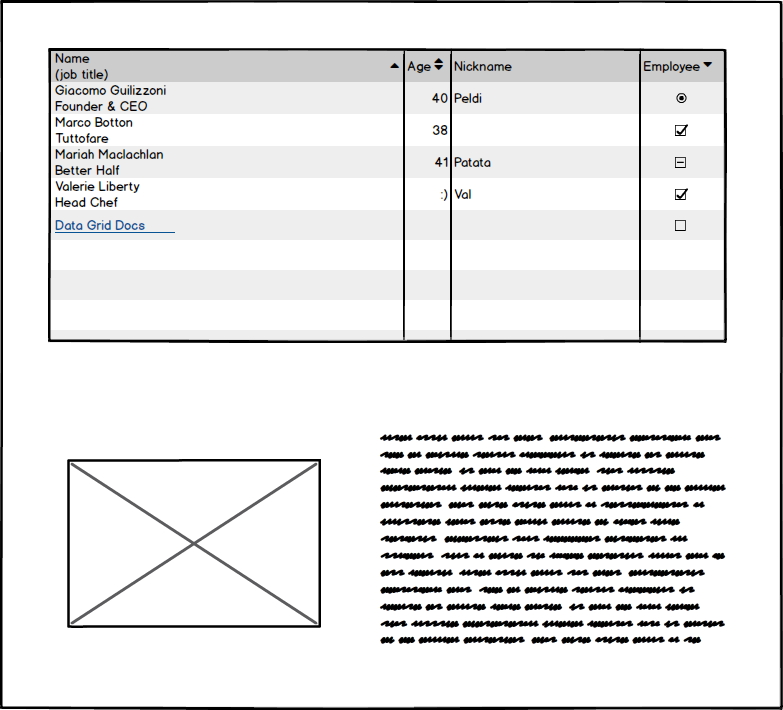image: (65, 451, 326, 631)
p: (368, 425, 736, 654)
table: (41, 42, 733, 348)
